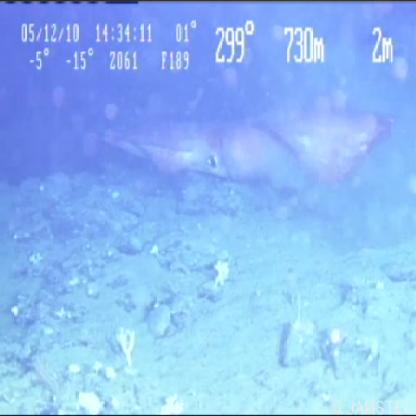Bio: (92, 100, 404, 192)
